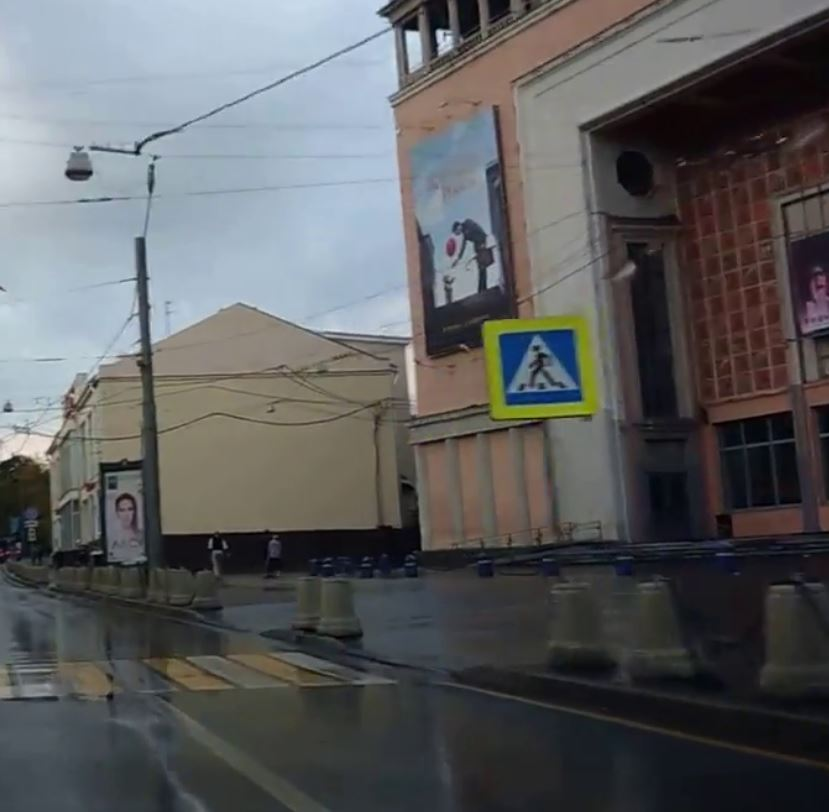Yaya Gecidi: (501, 335, 579, 404)
